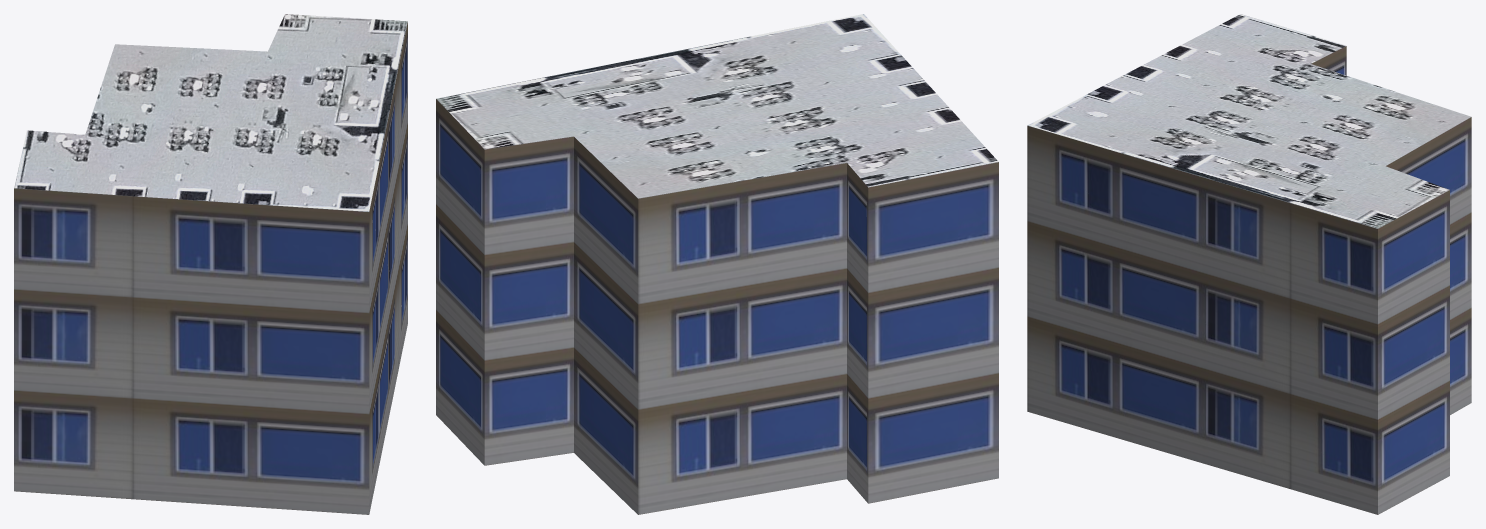
The model's file is ResTex__5012.fbx.
The picture shows the model from 3 angles, left to right: view 1: azimuth 30°, elevation 25°; view 2: azimuth 150°, elevation 25°; view 3: azimuth 270°, elevation 25°; orthographic projection. The views are drawn at different scales.
Parts seen in each view (by area): view 1: CityEngineMaterial_23_m, CityEngineMaterial_2_m; view 2: CityEngineMaterial_23_m, CityEngineMaterial_2_m; view 3: CityEngineMaterial_23_m, CityEngineMaterial_2_m.
Boxes of the visible parts, box(x1,y1,x2,y2) form: CityEngineMaterial_23_m: box(14, 21, 407, 514); CityEngineMaterial_2_m: box(14, 14, 407, 211); CityEngineMaterial_23_m: box(436, 99, 998, 514); CityEngineMaterial_2_m: box(436, 14, 998, 198); CityEngineMaterial_23_m: box(1027, 46, 1471, 514); CityEngineMaterial_2_m: box(1027, 14, 1471, 228).
Size of the model in its own units: 14.49 by 9 by 12.66.
2 materials, 2 textured.
